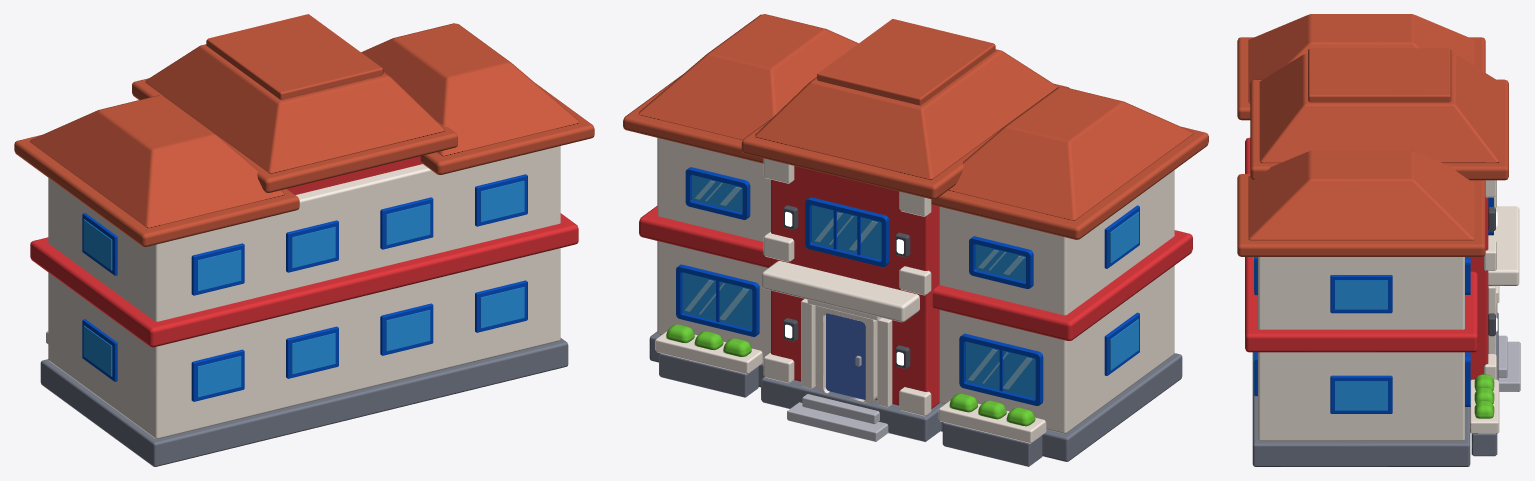
Rendered from Mansion.glb.
The picture shows the model from 3 angles, left to right: view 1: azimuth 30°, elevation 25°; view 2: azimuth 150°, elevation 25°; view 3: azimuth 270°, elevation 25°; orthographic projection. The views are drawn at different scales.
Visible parts, largest first — view 1: M_Mansion_RoofClay, M_Mansion_HouseWall, M_Mansion_ToyRed, M_Mansion_Metal, M_Mansion_TruckCab, M_Mansion_ToyBlueDark; view 2: M_Mansion_RoofClay, M_Mansion_HouseWall, M_Mansion_ToyRed, M_Mansion_Metal, M_Mansion_TruckCab, M_Mansion_ToyBlueDark, M_Mansion_TowerBlue, M_Mansion_PlaneFlap, M_Mansion_Leaves, M_Mansion_Glass, M_Mansion_ToyDark; view 3: M_Mansion_RoofClay, M_Mansion_HouseWall, M_Mansion_ToyRed, M_Mansion_Metal, M_Mansion_TruckCab, M_Mansion_ToyBlueDark, M_Mansion_PlaneFlap, M_Mansion_Leaves, M_Mansion_ToyDark.
Part boxes in pixels (box(x1,y1,x2,y2)): M_Mansion_RoofClay: box(14, 14, 594, 246); M_Mansion_HouseWall: box(46, 146, 560, 438); M_Mansion_ToyRed: box(30, 156, 578, 347); M_Mansion_Metal: box(40, 338, 568, 466); M_Mansion_TruckCab: box(83, 181, 524, 397); M_Mansion_ToyBlueDark: box(82, 174, 527, 401); M_Mansion_RoofClay: box(623, 14, 1208, 239); M_Mansion_HouseWall: box(655, 138, 1174, 443); M_Mansion_ToyRed: box(639, 166, 1192, 408); M_Mansion_Metal: box(649, 331, 1182, 466); M_Mansion_TruckCab: box(682, 175, 1138, 398); M_Mansion_ToyBlueDark: box(676, 167, 1139, 405); M_Mansion_TowerBlue: box(826, 313, 865, 399); M_Mansion_PlaneFlap: box(787, 394, 888, 441); M_Mansion_Leaves: box(666, 324, 1035, 426); M_Mansion_Glass: box(685, 180, 1032, 389); M_Mansion_ToyDark: box(783, 205, 910, 368); M_Mansion_RoofClay: box(1237, 14, 1508, 256); M_Mansion_HouseWall: box(1258, 180, 1519, 441); M_Mansion_ToyRed: box(1245, 137, 1488, 379); M_Mansion_Metal: box(1252, 304, 1498, 466); M_Mansion_TruckCab: box(1253, 257, 1387, 410); M_Mansion_ToyBlueDark: box(1254, 197, 1493, 413); M_Mansion_PlaneFlap: box(1498, 335, 1520, 391); M_Mansion_Leaves: box(1474, 374, 1494, 418); M_Mansion_ToyDark: box(1488, 207, 1495, 336).
Bounding box in the file's own units: 19.2 × 12.8 × 10.95.
